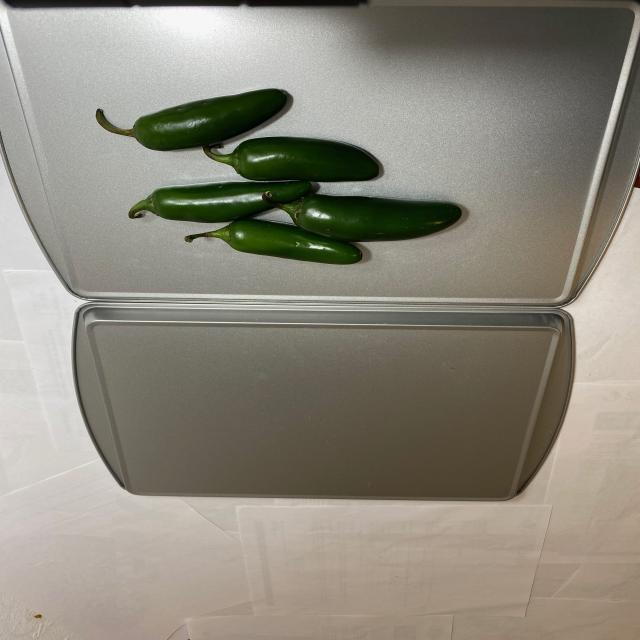chilli: (88, 91, 464, 270)
